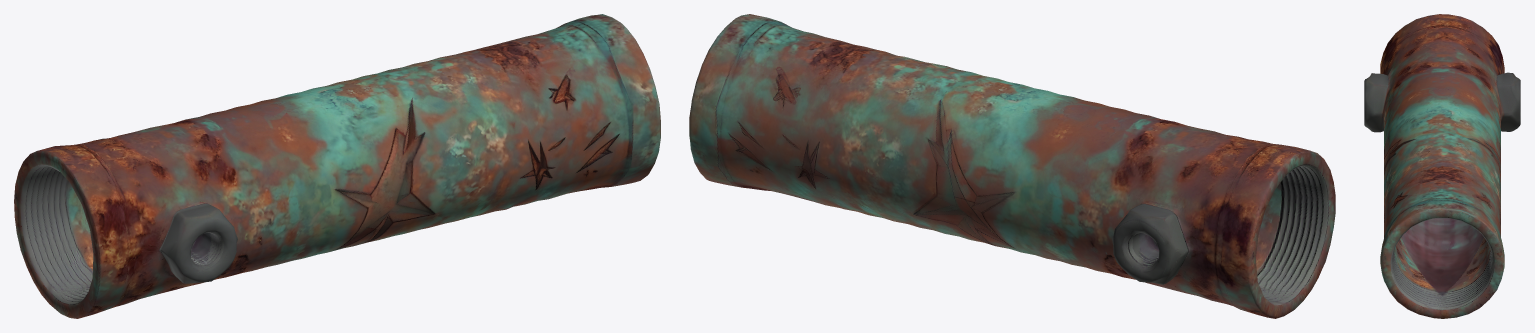
Rendered from Meshy_AI_pipe_0330102305_texture.fbx.
3 views of the same model, side by side, from view 1: azimuth 30°, elevation 25°; view 2: azimuth 150°, elevation 25°; view 3: azimuth 270°, elevation 25° (orthographic). The views are drawn at different scales.
Parts seen in each view (by area): view 1: Mesh_0; view 2: Mesh_0; view 3: Mesh_0.
Boxes of the visible parts, x1=… form: Mesh_0: x1=14, y1=14, x2=660, y2=318; Mesh_0: x1=689, y1=14, x2=1335, y2=318; Mesh_0: x1=1364, y1=14, x2=1520, y2=318.
Bounding box in the file's own units: 191 × 50.49 × 64.58.
1 material, 1 textured.
